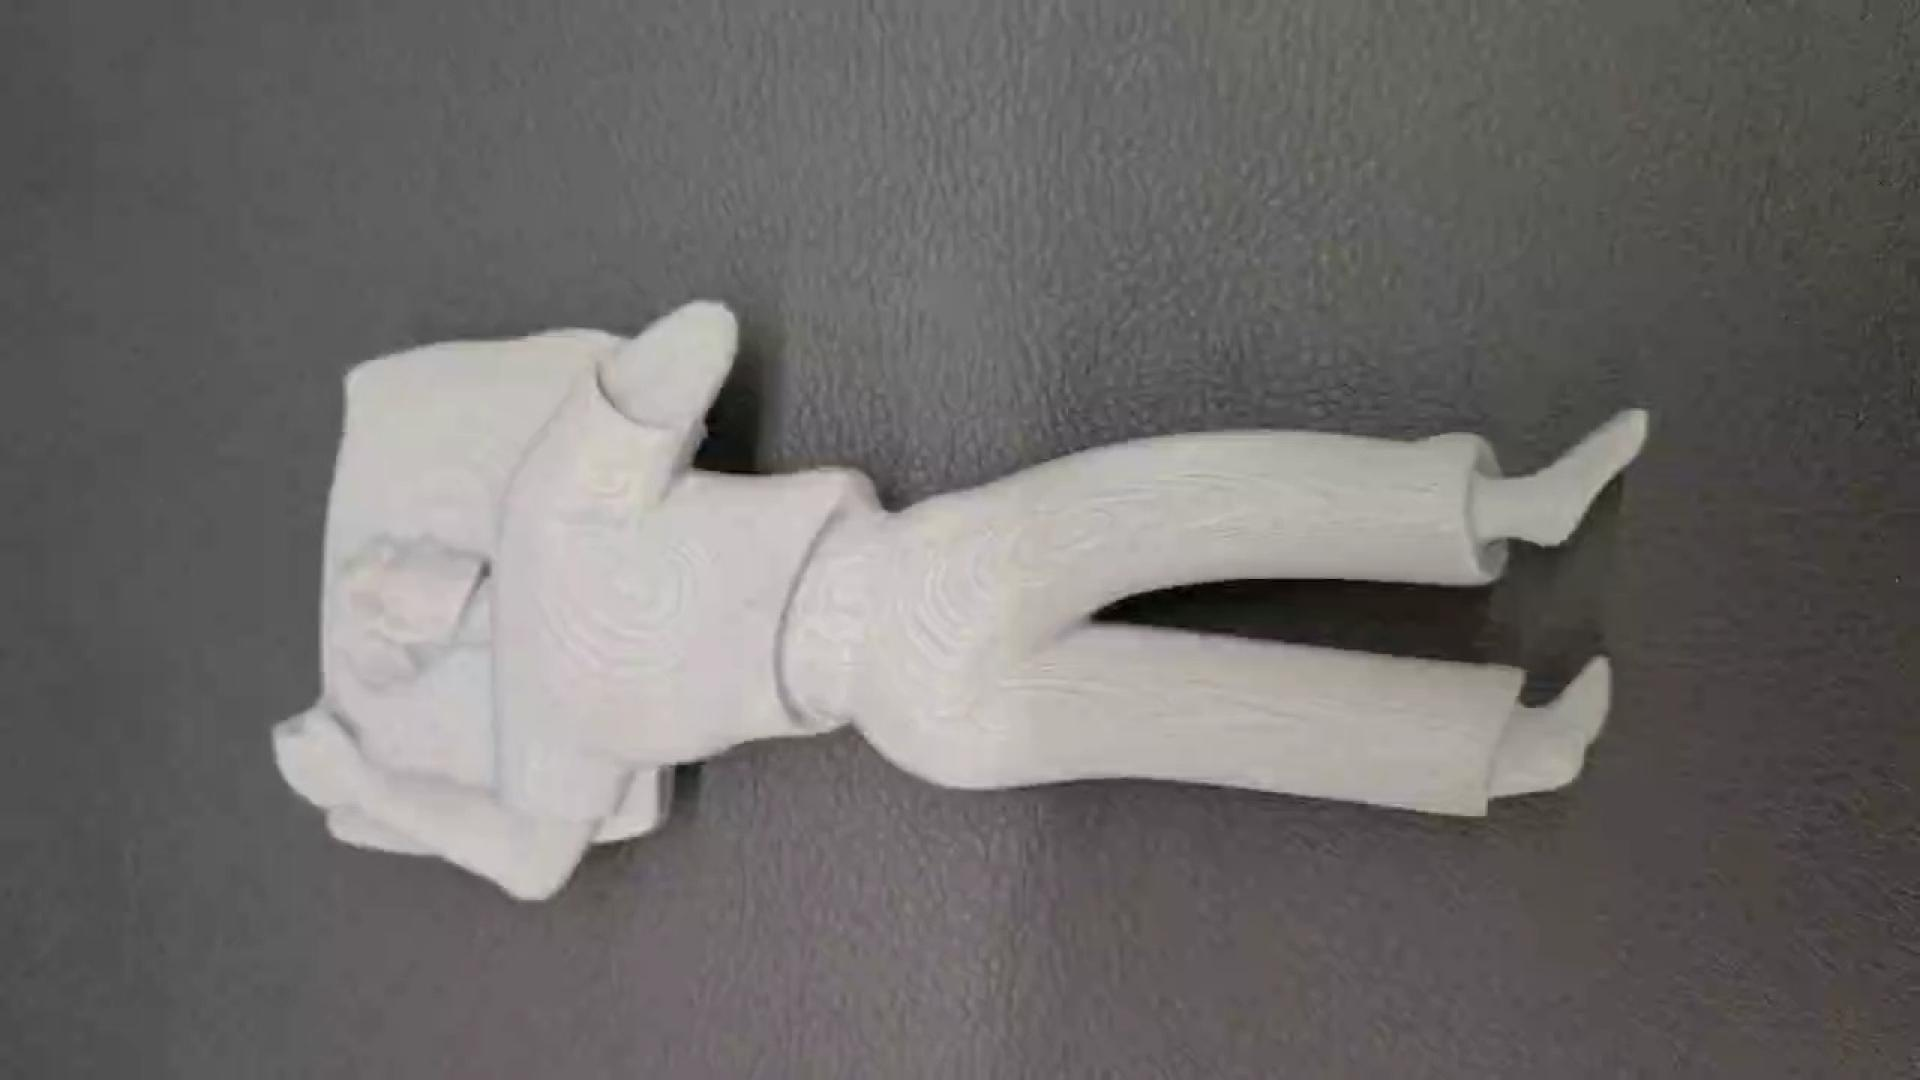Bad-style: (281, 299, 1654, 905)
